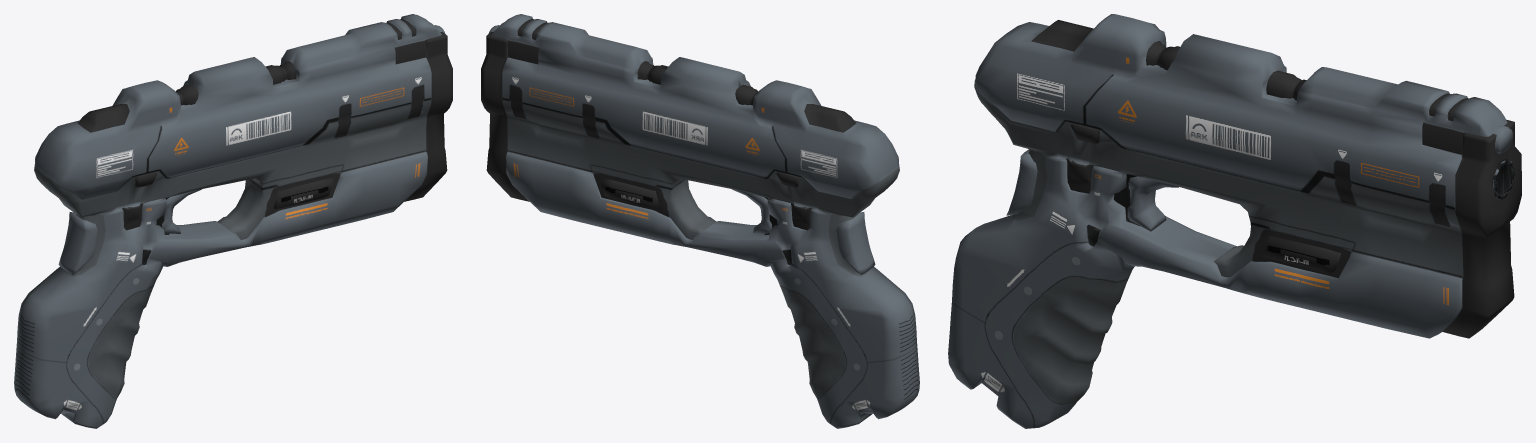
The model's file is final gun.fbx.
3 views of the same model, side by side, from view 1: azimuth 30°, elevation 25°; view 2: azimuth 150°, elevation 25°; view 3: azimuth 330°, elevation 25° (orthographic). The views are drawn at different scales.
Parts seen in each view (by area): view 1: obj_gun_LOD0; view 2: obj_gun_LOD0; view 3: obj_gun_LOD0.
Boxes of the visible parts, <box> form: obj_gun_LOD0: <box>14,14,452,428</box>; obj_gun_LOD0: <box>481,14,919,428</box>; obj_gun_LOD0: <box>948,14,1521,428</box>.
Bounding box in the file's own units: 140 × 102 × 17.49.
Materials: 1 (1 with a texture image).
